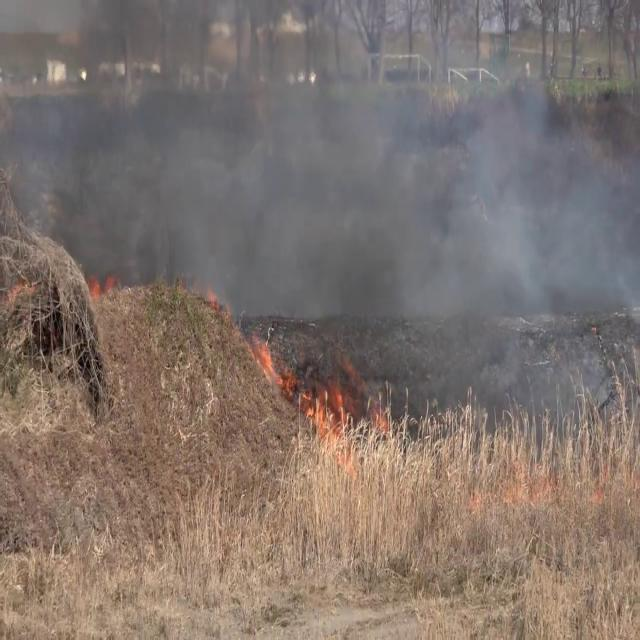Fire: (241, 325, 293, 391)
Smoke: (1, 4, 638, 384)
